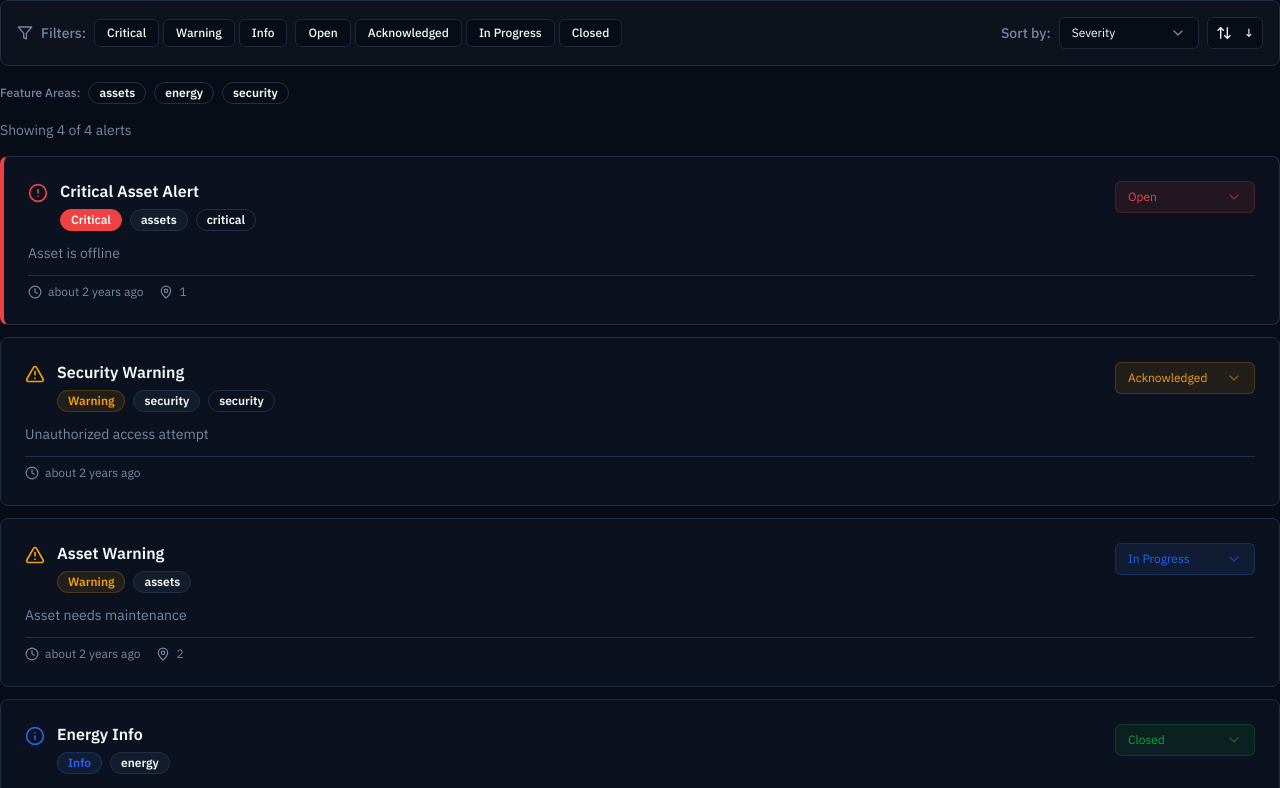
Test: AlertList › filters alerts by severity
The width and height of the screenshot is (1280, 788).
Note: Click the Critical filter button
Click the button with aria-label "Filter by critical severity" at (127, 33), box [94,19,159,47]
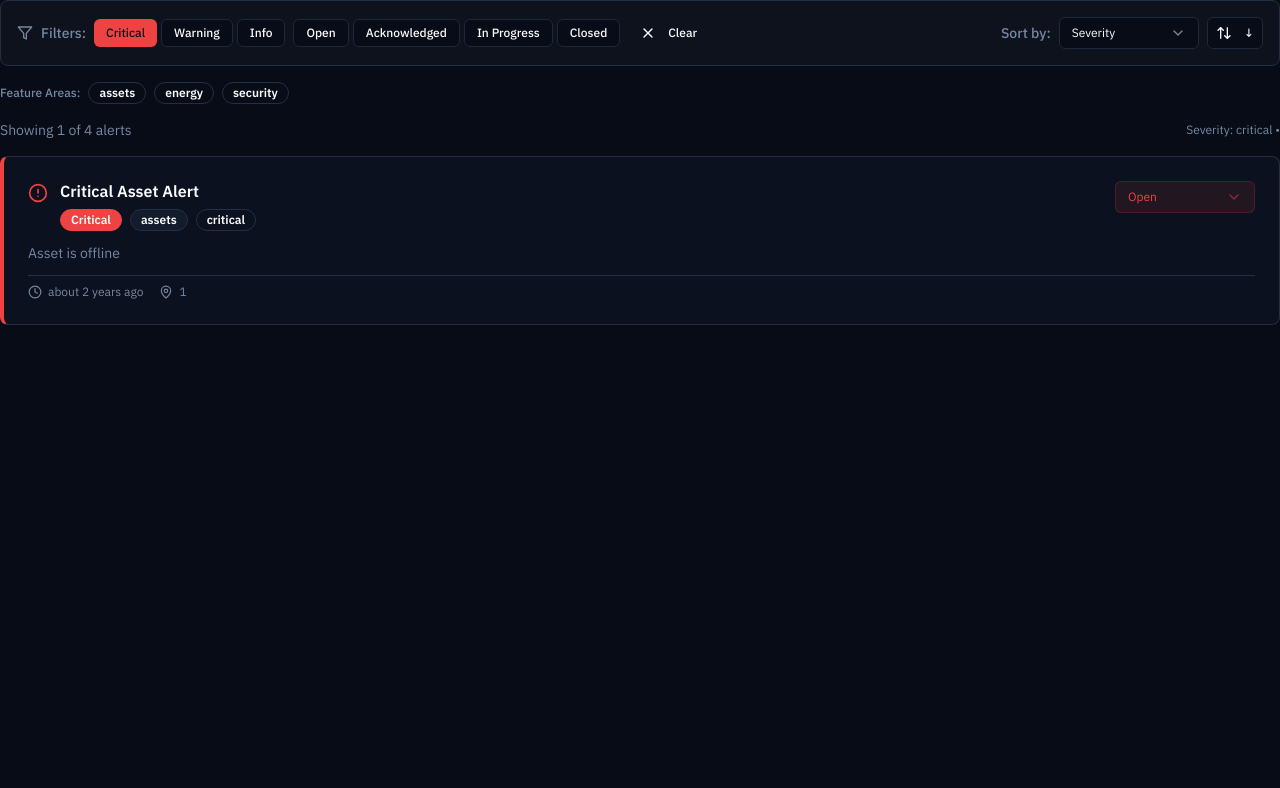
Check: the heading "Critical Asset Alert" is shown, box [60,181,199,201]
Check: the text "Showing 1 of 4 alerts" is shown, box [0,120,132,140]
Check: the heading "Security Warning" is gone
